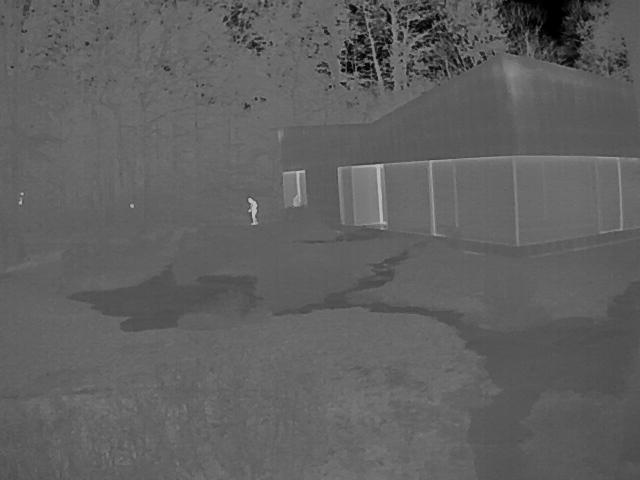person: (248, 194, 260, 224)
